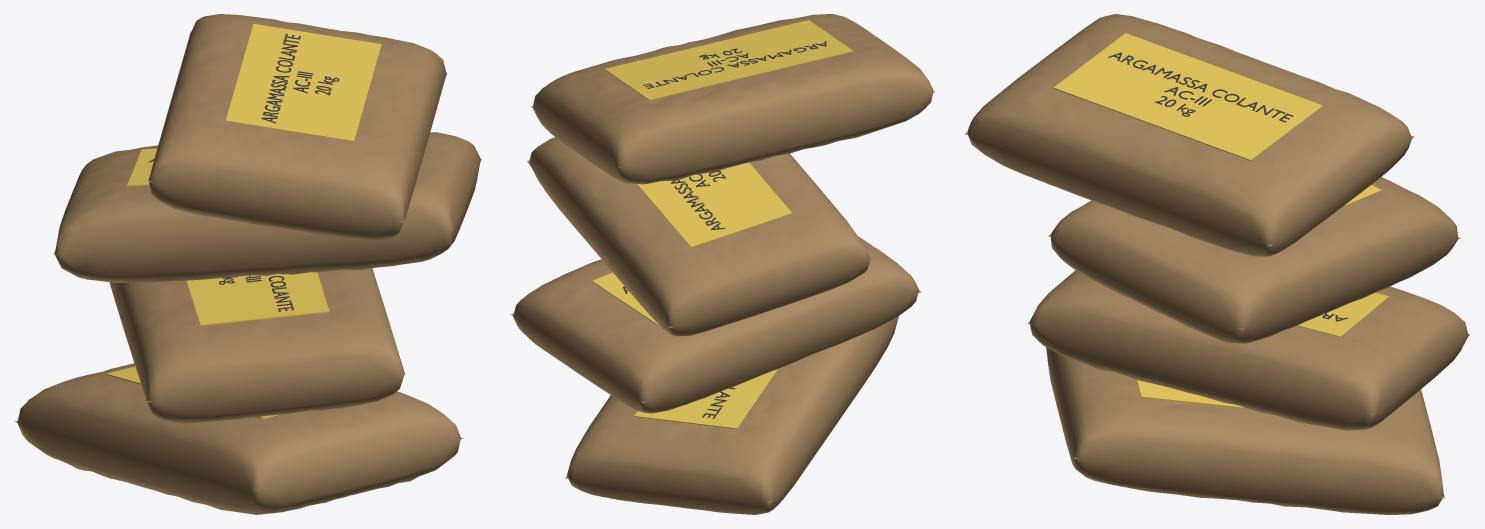
The model's file is REV-COL-003_anim.glb.
The picture shows the model from 3 angles, left to right: view 1: azimuth 30°, elevation 25°; view 2: azimuth 150°, elevation 25°; view 3: azimuth 270°, elevation 25°; orthographic projection. The views are drawn at different scales.
Parts seen in each view (by area): view 1: REV-COL-003_anim3, REV-COL-003_anim0, REV-COL-003_anim1, REV-COL-003_anim2; view 2: REV-COL-003_anim3, REV-COL-003_anim2, REV-COL-003_anim0, REV-COL-003_anim1; view 3: REV-COL-003_anim3, REV-COL-003_anim0, REV-COL-003_anim1, REV-COL-003_anim2.
Boxes of the visible parts, bbox=[...] form: REV-COL-003_anim3: bbox=[148, 14, 446, 240]; REV-COL-003_anim0: bbox=[14, 363, 463, 514]; REV-COL-003_anim1: bbox=[109, 268, 405, 423]; REV-COL-003_anim2: bbox=[54, 132, 481, 283]; REV-COL-003_anim3: bbox=[531, 14, 934, 184]; REV-COL-003_anim2: bbox=[527, 137, 871, 336]; REV-COL-003_anim0: bbox=[565, 315, 899, 514]; REV-COL-003_anim1: bbox=[511, 236, 921, 413]; REV-COL-003_anim3: bbox=[965, 14, 1414, 256]; REV-COL-003_anim0: bbox=[1046, 347, 1444, 514]; REV-COL-003_anim1: bbox=[1027, 270, 1469, 430]; REV-COL-003_anim2: bbox=[1048, 177, 1460, 343].
Bounding box in the file's own units: 0.5747 × 0.5844 × 0.6454.
3 materials, 1 textured.
